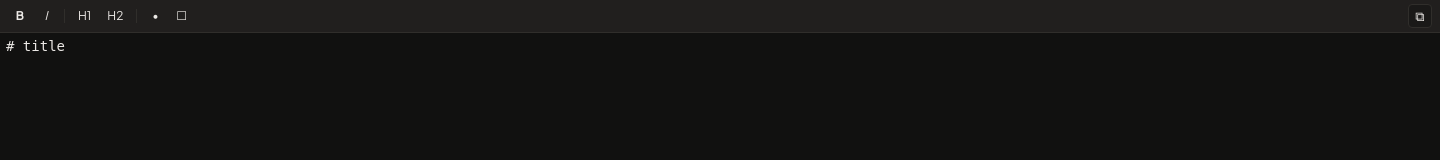
it: NotesToolbar › Heading 2 replaces an existing H1 marker
Click the button named "Heading 2".
click(115, 16)  # box [100,4,130,28]
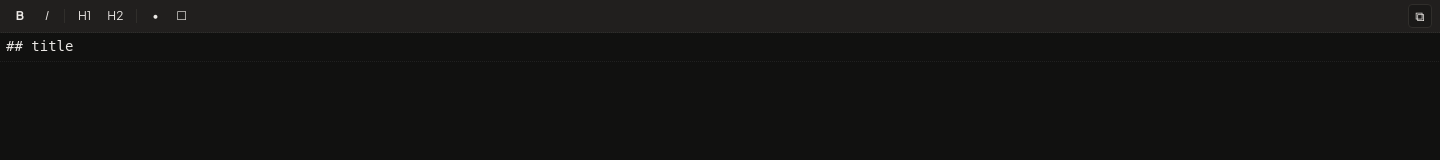
Check: the text box labelled "## title" is shown, box [6,38,73,54]
